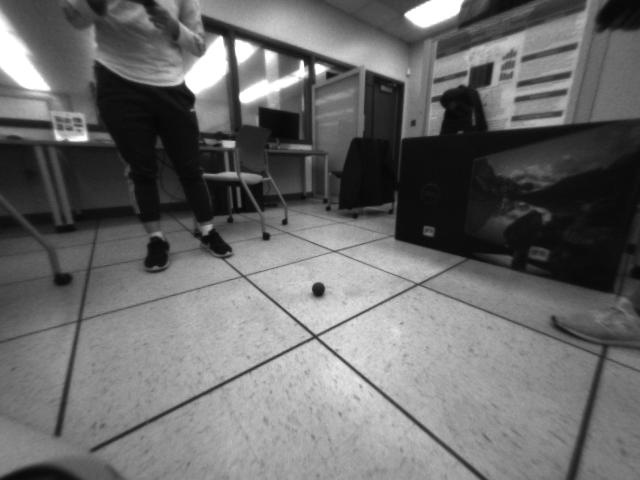dogtoy: (304, 275, 334, 300)
